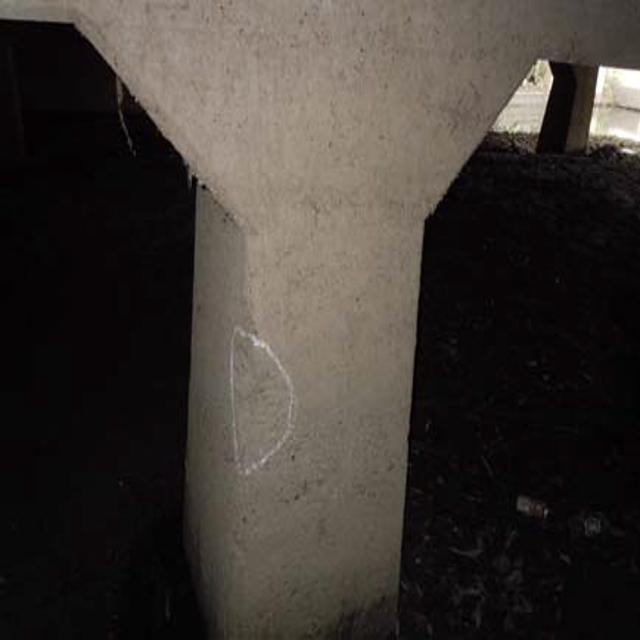spalling: (223, 320, 304, 496)
